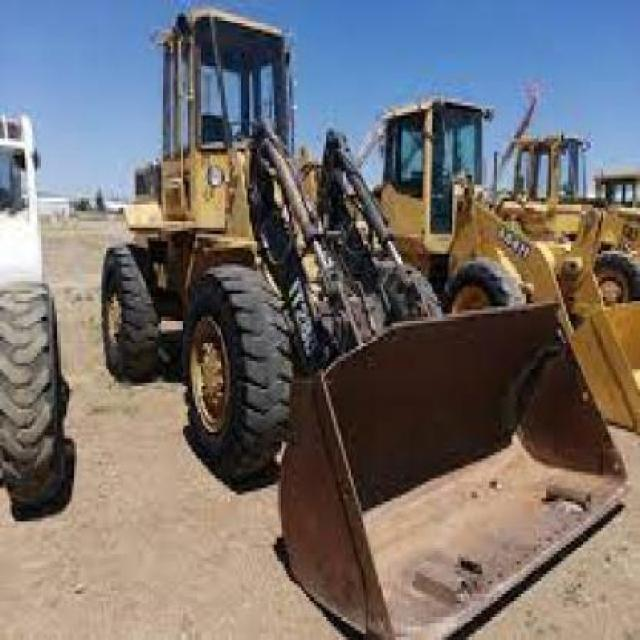buldozerpayloadergrader: (80, 0, 624, 635)
